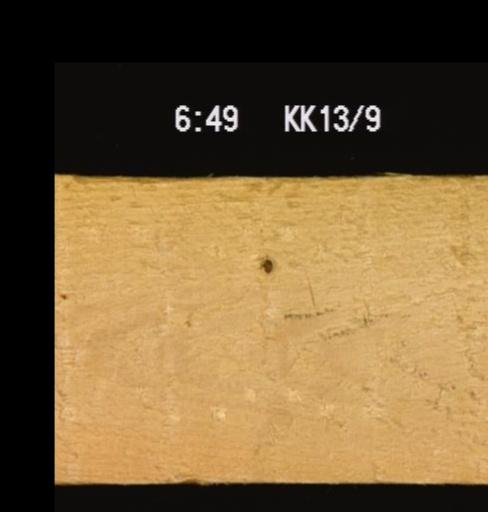dry_knot: (258, 253, 273, 275)
